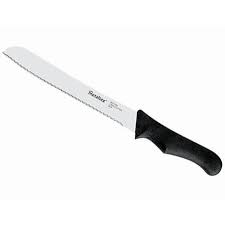breadknife: (1, 44, 224, 178)
